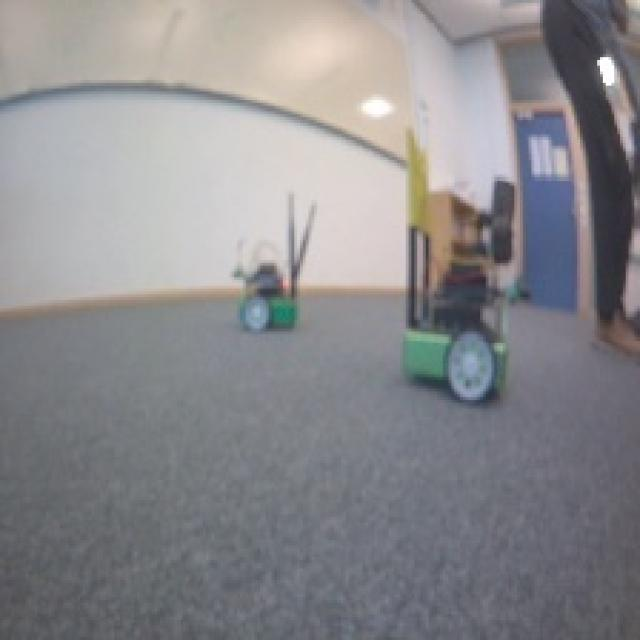robot: (397, 282, 515, 405), (233, 259, 303, 333)
